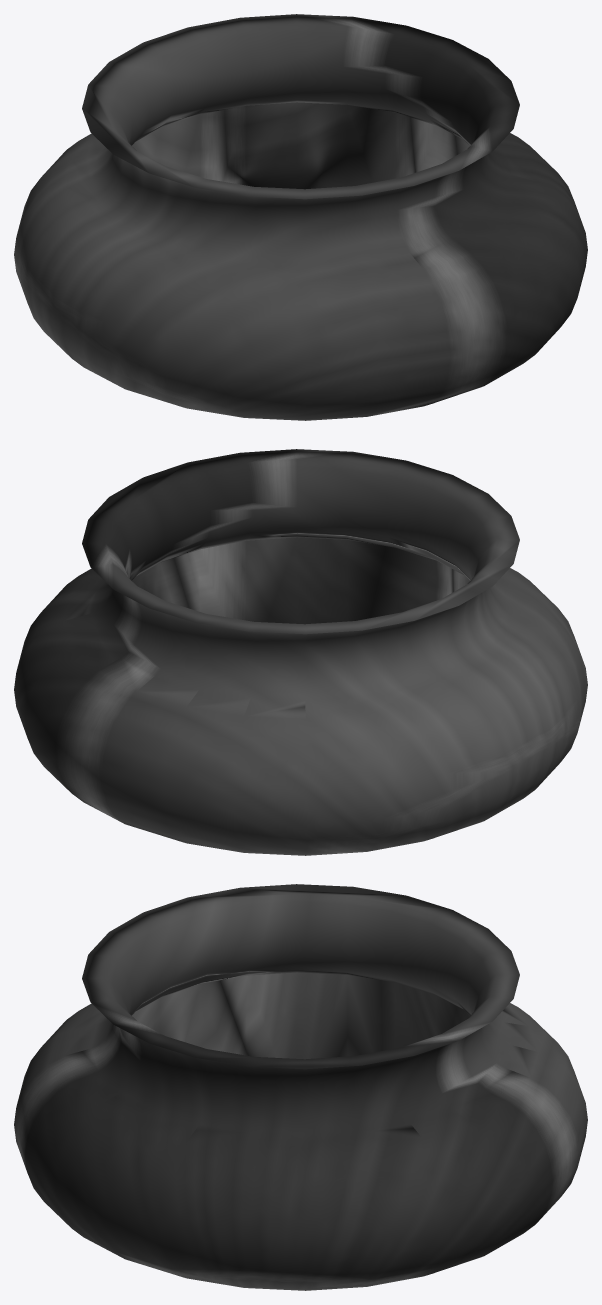
The model's file is cauldron_silver.obj.
3 views of the same model, one above another, from view 1: azimuth 30°, elevation 25°; view 2: azimuth 150°, elevation 25°; view 3: azimuth 270°, elevation 25° (orthographic).
Parts seen in each view (by area): view 1: cauldron_silver; view 2: cauldron_silver; view 3: cauldron_silver.
Part boxes in pixels (left/top/right/bottom): cauldron_silver: left=14, top=14, right=587, bottom=420; cauldron_silver: left=14, top=449, right=587, bottom=855; cauldron_silver: left=14, top=884, right=587, bottom=1290.
Bounding box in the file's own units: 243 × 102 × 243.
Materials: 1 (1 with a texture image).
